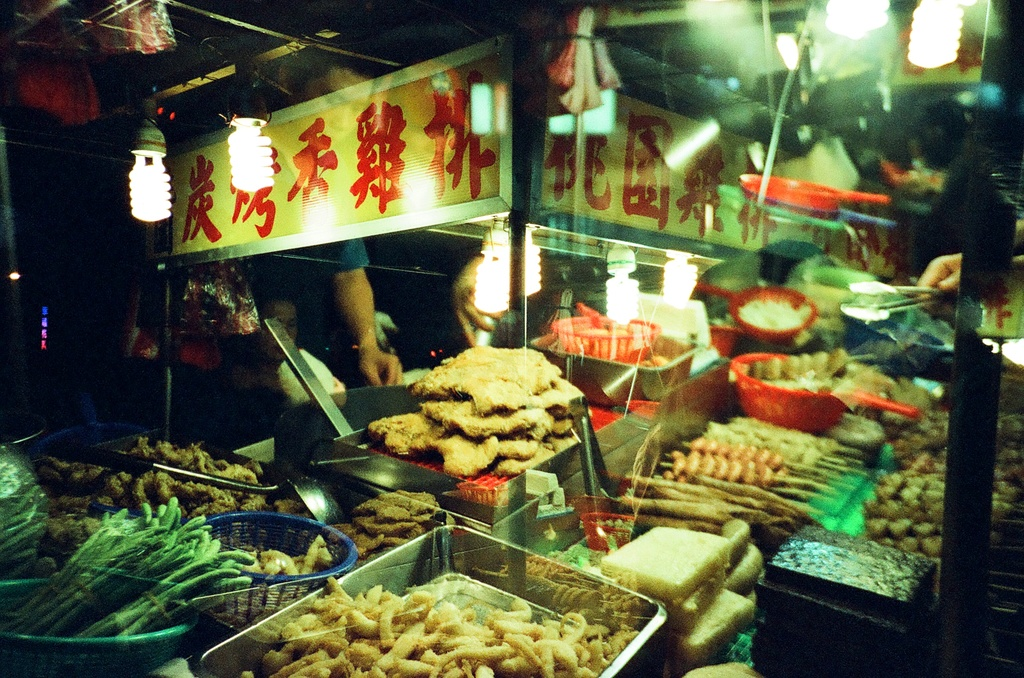French fries: (232, 573, 617, 677)
